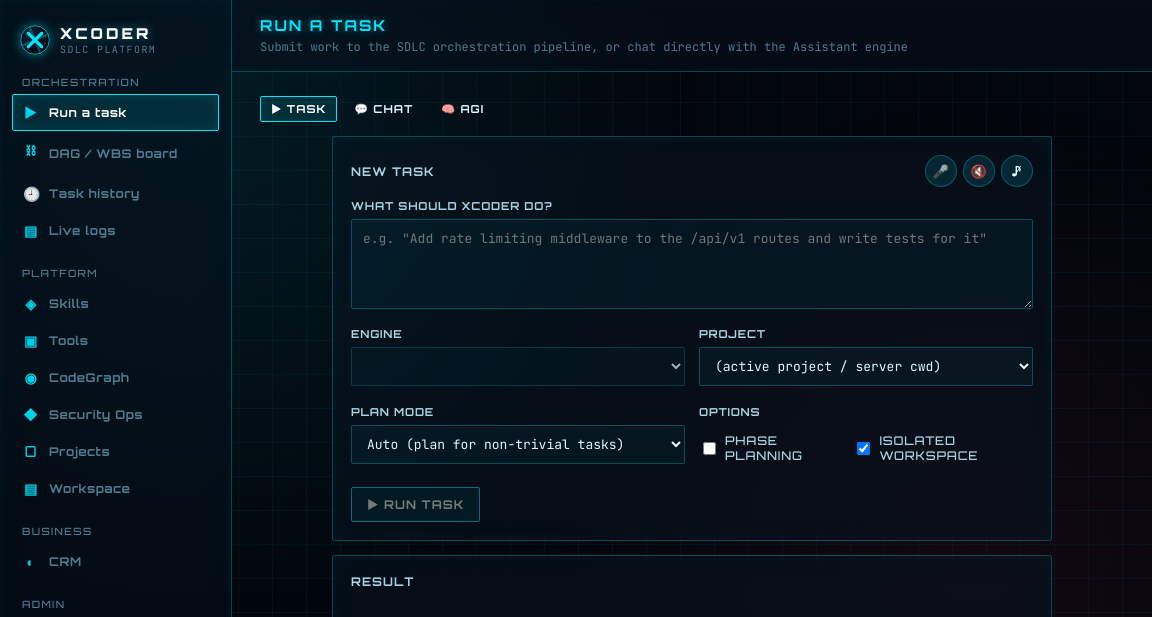
pages keep their state across navigation › keeps the task draft after visiting another page and coming back
The width and height of the screenshot is (1152, 617).
Step 1. Replace the text in the text box with "add rate limiting" → x=692, y=264, box left=351, top=219, right=1033, bottom=309
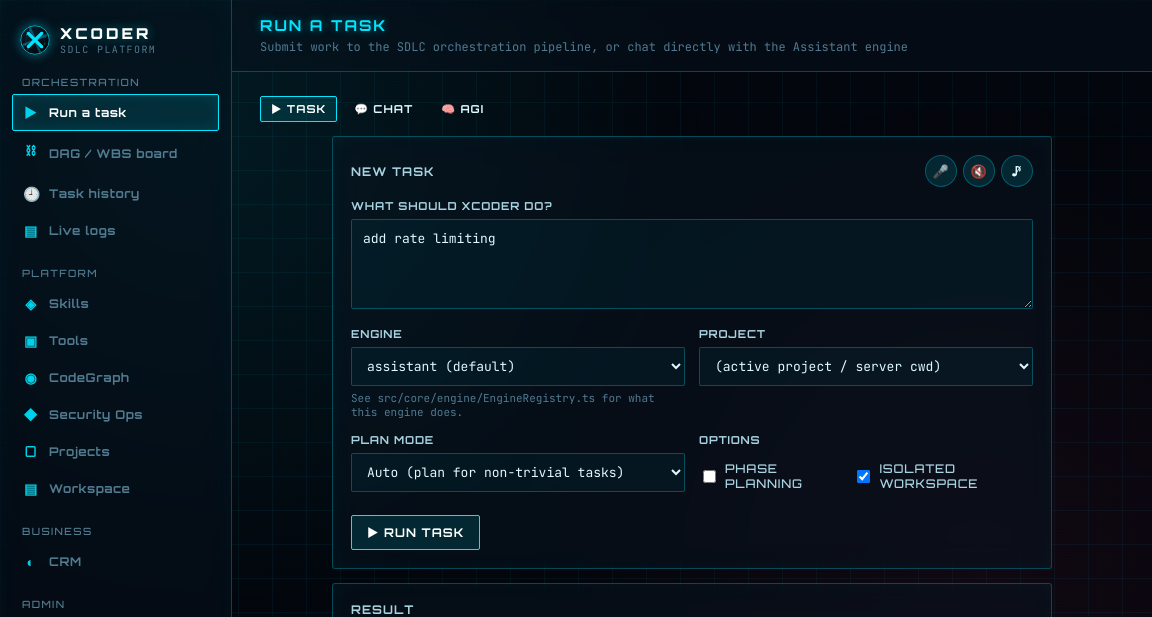
Step 2. Click the button "◈ Skills" → x=116, y=304, box left=12, top=285, right=219, bottom=322
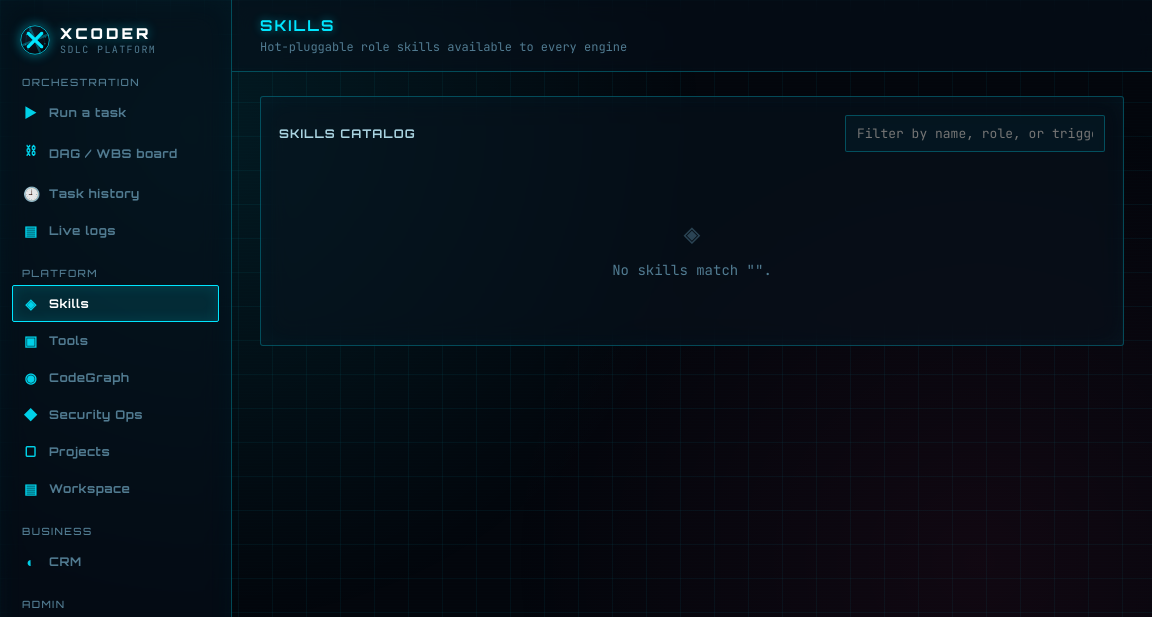
Check: the text "Skills" is shown, box left=260, top=16, right=335, bottom=35
Step 3. Click the button "▶ Run a task" → x=116, y=112, box left=12, top=94, right=219, bottom=131
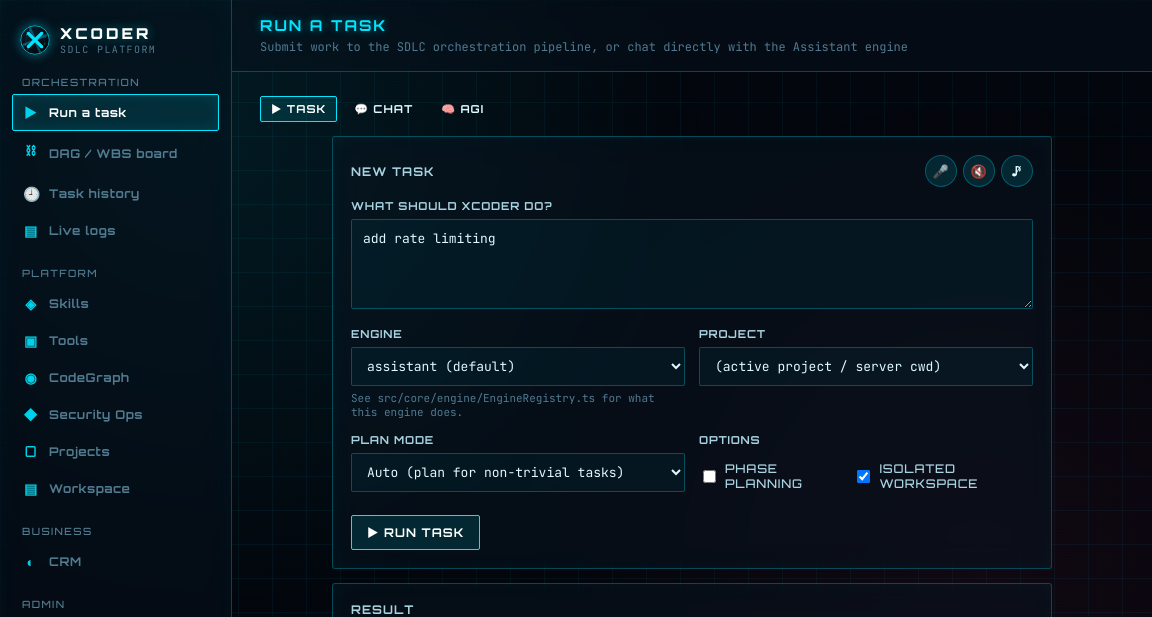
Check: the text "Run a task" is shown, box left=260, top=16, right=387, bottom=35
